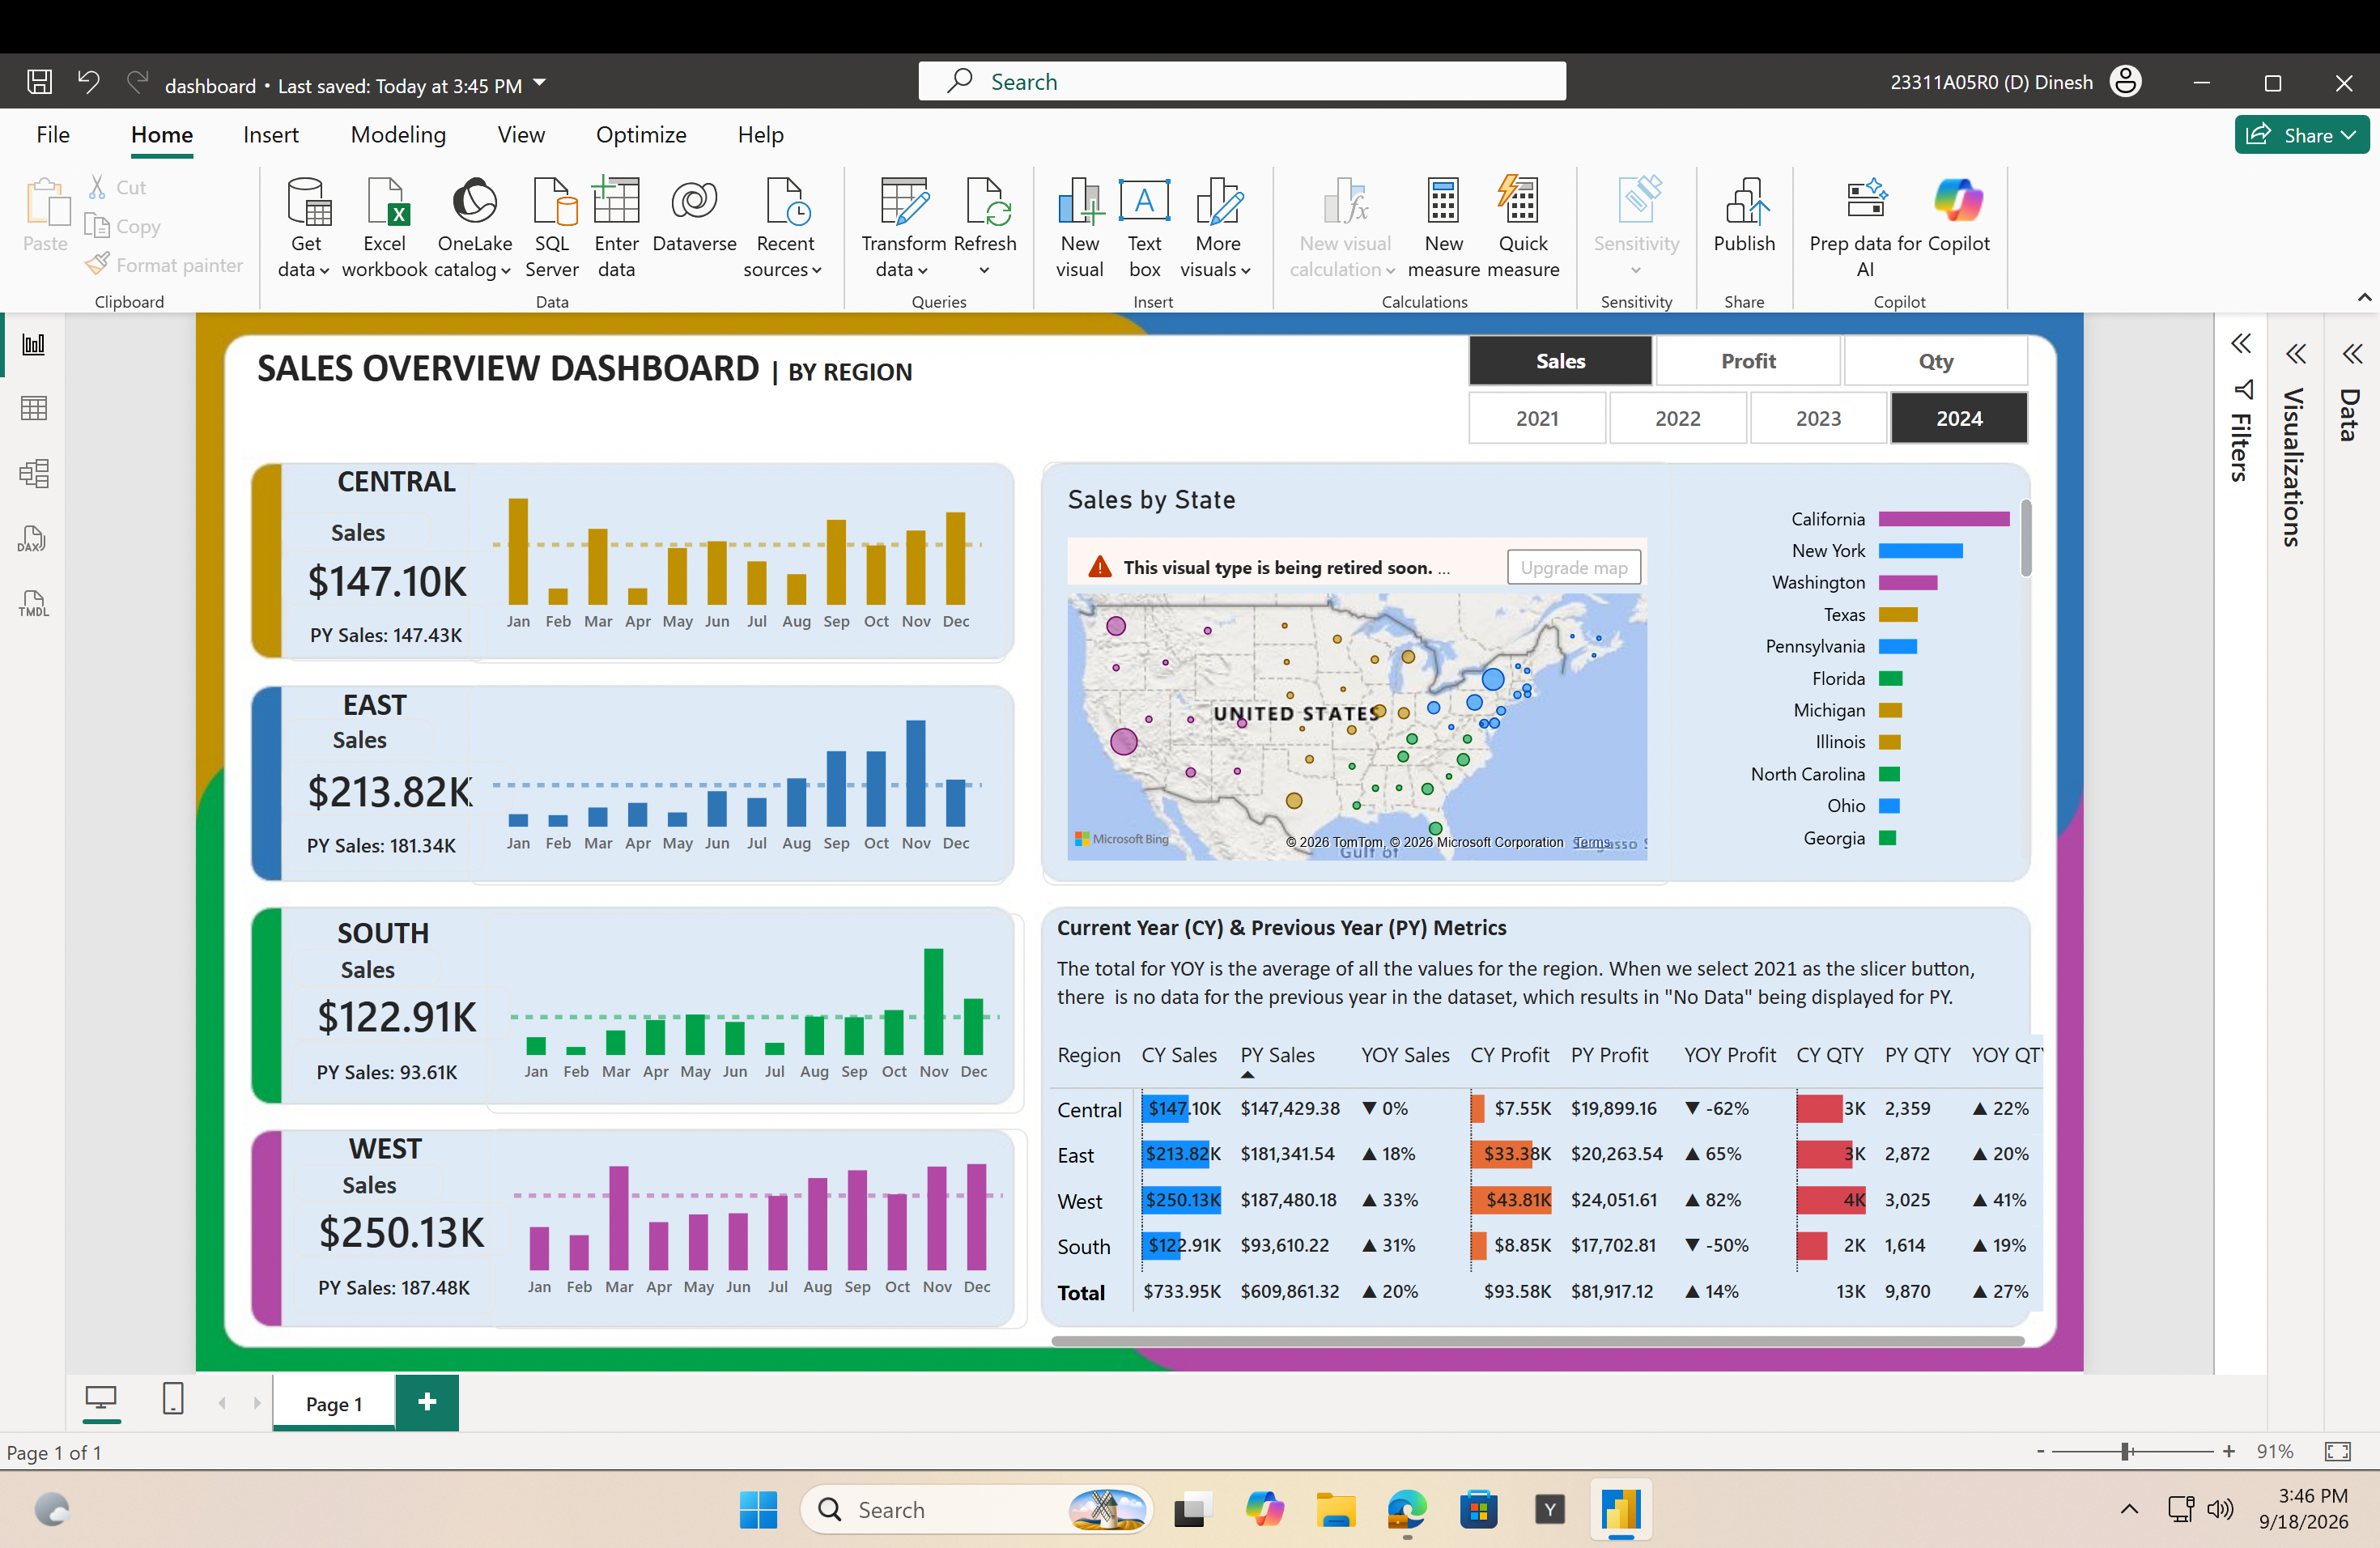

What the dashboard file says about the page in this screenshot:
{"tool":"powerbi","page":{"name":"Page 1","canvas":[1280,720],"ordinal":0},"visuals":[{"type":"slicer","fields":{"Values":["Select Metric.Select Metric"]},"box":[841.8,13.6,419.7,38.4],"z":0},{"type":"cardVisual","fields":{"Data":["Sales Data.Total Qty"]},"box":[58.2,160.9,156,37.1],"z":1000},{"type":"textbox","box":[73,101.5,125,47],"z":2000},{"type":"slicer","fields":{"Values":["Calender Table.Year"]},"box":[841.8,52,419.7,39.6],"z":3000},{"type":"cardVisual","fields":{"Data":["Sales Data.Dynamic Title"]},"box":[58.2,134.9,102.7,26],"z":4000},{"type":"cardVisual","fields":{"Data":["Sales Data.PY KPI Sales"]},"box":[60.7,198.1,138.6,39.6],"z":5000},{"type":"clusteredColumnChart","fields":{"Category":["Calender Table.Month"],"Y":["Sales Data.Total Qty"]},"box":[184.4,102.1,365.5,136.1],"z":6000},{"type":"textbox","box":[19.8,20.9,488.4,39.5],"z":7000},{"type":"cardVisual","fields":{"Data":["Sales Data.Total Qty"]},"box":[58.2,304.5,157.2,37.1],"z":8000},{"type":"textbox","box":[58.2,252.5,126.3,35.9],"z":9000},{"type":"cardVisual","fields":{"Data":["Sales Data.Dynamic Title"]},"box":[59.7,275.9,102.7,26],"z":10000},{"type":"cardVisual","fields":{"Data":["Sales Data.PY KPI Sales"]},"box":[58.2,340.2,138.6,39.6],"z":11000},{"type":"clusteredColumnChart","fields":{"Category":["Calender Table.Month"],"Y":["Sales Data.Total Qty"]},"box":[184.4,252.4,365.5,136.1],"z":12000},{"type":"cardVisual","fields":{"Data":["Sales Data.Total Qty"]},"box":[64.4,456.8,149.8,37.1],"z":13000},{"type":"textbox","box":[64.4,407.3,125,37.1],"z":14000},{"type":"cardVisual","fields":{"Data":["Sales Data.Dynamic Title"]},"box":[64.4,430.8,102.7,26],"z":15000},{"type":"cardVisual","fields":{"Data":["Sales Data.PY KPI Sales"]},"box":[64.4,493.9,138.6,39.6],"z":16000},{"type":"clusteredColumnChart","fields":{"Category":["Calender Table.Month"],"Y":["Sales Data.Total Qty"]},"box":[196.8,407.3,365.5,136.1],"z":17000},{"type":"cardVisual","fields":{"Data":["Sales Data.Total Qty"]},"box":[65.6,602.9,148.5,37.1],"z":18000},{"type":"textbox","box":[65.7,553.4,125,37.1],"z":19000},{"type":"cardVisual","fields":{"Data":["Sales Data.Dynamic Title"]},"box":[65.7,577,102.7,26],"z":20000},{"type":"cardVisual","fields":{"Data":["Sales Data.PY KPI Sales"]},"box":[65.7,640.1,138.6,39.6],"z":21000},{"type":"clusteredColumnChart","fields":{"Category":["Calender Table.Month"],"Y":["Sales Data.Total Qty"]},"box":[198.2,553.4,365.5,136.1],"z":22000},{"type":"map","fields":{"Category":["Sales Data.State/Province"],"Series":["Sales Data.Region"],"Size":["Sales Data.Dynamic Metric"]},"box":[574,101,427,287.6],"z":23000},{"type":"barChart","fields":{"Category":["Sales Data.State/Province"],"Series":["Sales Data.Region"],"Y":["Sales Data.Total Qty"]},"box":[1001.5,104,260,282.2],"z":24000},{"type":"pivotTable","fields":{"Rows":["Sales Data.Region"],"Values":["Sales Data.CY Sales","Sales Data.PY Sales Display","Sales Data.YOY Sales","Sales Data.CY Profit","Sales Data.PY Profit Display","Sales Data.YOY Profit","Sales Data.CY QTY","Sales Data.PY QTY Display","Sales Data.YOY QTY"]},"box":[563.2,475.4,705.6,242.6],"z":25000},{"type":"textbox","box":[584.3,407.3,501.4,37.1],"z":26000},{"type":"textbox","box":[584.3,434.5,647.4,43.3],"z":27000}]}

Visuals, with their boxes on the page's 1280x720 design canvas (x1, y1, x2, y2). These are canvas units, not pixel positions in the 2380x1548 screenshot, which may show the page scaled, cropped or inside an application window:
slicer - Select Metric.Select Metric: x1=842 y1=14 x2=1262 y2=52
cardVisual - Sales Data.Total Qty: x1=58 y1=161 x2=214 y2=198
textbox: x1=73 y1=102 x2=198 y2=148
slicer - Calender Table.Year: x1=842 y1=52 x2=1262 y2=92
cardVisual - Sales Data.Dynamic Title: x1=58 y1=135 x2=161 y2=161
cardVisual - Sales Data.PY KPI Sales: x1=61 y1=198 x2=199 y2=238
clusteredColumnChart - Calender Table.Month x Sales Data.Total Qty: x1=184 y1=102 x2=550 y2=238
textbox: x1=20 y1=21 x2=508 y2=60
cardVisual - Sales Data.Total Qty: x1=58 y1=304 x2=215 y2=342
textbox: x1=58 y1=252 x2=184 y2=288
cardVisual - Sales Data.Dynamic Title: x1=60 y1=276 x2=162 y2=302
cardVisual - Sales Data.PY KPI Sales: x1=58 y1=340 x2=197 y2=380
clusteredColumnChart - Calender Table.Month x Sales Data.Total Qty: x1=184 y1=252 x2=550 y2=388
cardVisual - Sales Data.Total Qty: x1=64 y1=457 x2=214 y2=494
textbox: x1=64 y1=407 x2=189 y2=444
cardVisual - Sales Data.Dynamic Title: x1=64 y1=431 x2=167 y2=457
cardVisual - Sales Data.PY KPI Sales: x1=64 y1=494 x2=203 y2=534
clusteredColumnChart - Calender Table.Month x Sales Data.Total Qty: x1=197 y1=407 x2=562 y2=543
cardVisual - Sales Data.Total Qty: x1=66 y1=603 x2=214 y2=640
textbox: x1=66 y1=553 x2=191 y2=590
cardVisual - Sales Data.Dynamic Title: x1=66 y1=577 x2=168 y2=603
cardVisual - Sales Data.PY KPI Sales: x1=66 y1=640 x2=204 y2=680
clusteredColumnChart - Calender Table.Month x Sales Data.Total Qty: x1=198 y1=553 x2=564 y2=690
map - Sales Data.State/Province x Sales Data.Region: x1=574 y1=101 x2=1001 y2=389
barChart - Sales Data.State/Province x Sales Data.Region: x1=1002 y1=104 x2=1262 y2=386
pivotTable - Sales Data.Region x Sales Data.CY Sales: x1=563 y1=475 x2=1269 y2=718
textbox: x1=584 y1=407 x2=1086 y2=444
textbox: x1=584 y1=434 x2=1232 y2=478
